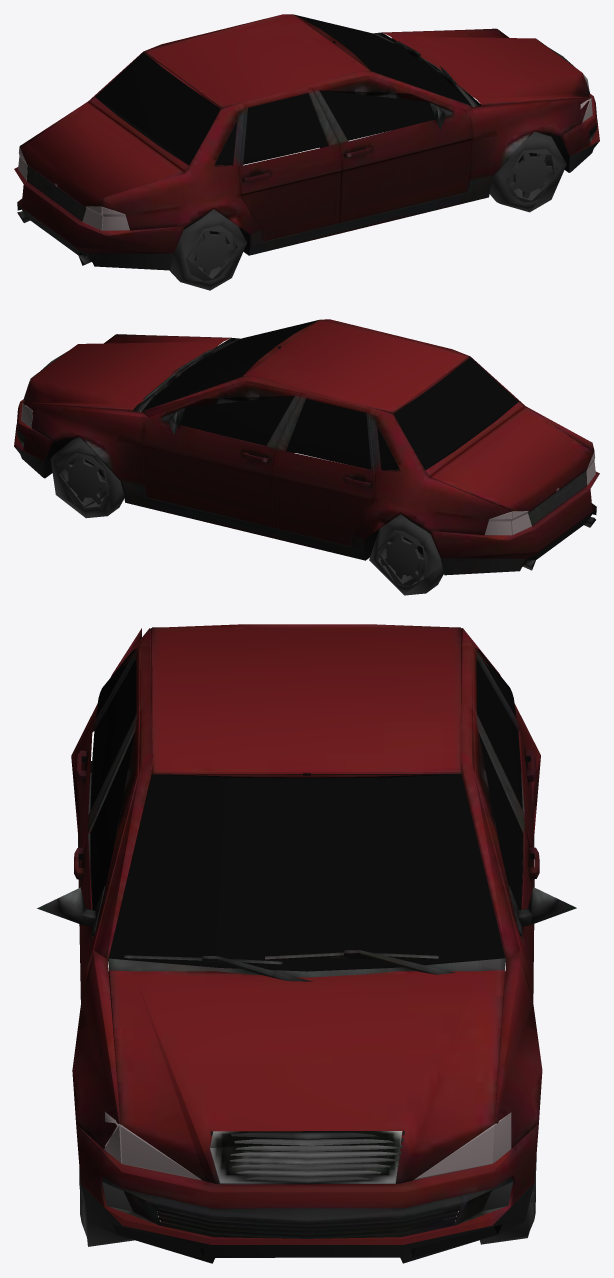
The model's file is pc-sedan-maroon.lod1.glb.
3 views of the same model, one above another, from view 1: azimuth 30°, elevation 25°; view 2: azimuth 150°, elevation 25°; view 3: azimuth 270°, elevation 25° (orthographic). The views are drawn at different scales.
Parts seen in each view (by area): view 1: Sedan Body_Body_0, Sedan Body_Glass_0; view 2: Sedan Body_Body_0, Sedan Body_Glass_0; view 3: Sedan Body_Body_0, Sedan Body_Glass_0.
Part boxes in pixels (x1,y1,x2,y2): Sedan Body_Body_0: (14,14,599,270); Sedan Body_Glass_0: (18,14,592,290); Sedan Body_Body_0: (14,319,599,575); Sedan Body_Glass_0: (21,320,595,595); Sedan Body_Body_0: (37,624,576,1263); Sedan Body_Glass_0: (78,659,536,1246).
Bounding box in the file's own units: 4.33 × 1.31 × 1.92.
Materials: 2 (1 with a texture image).
